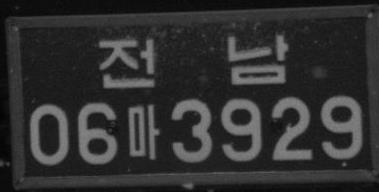0: (28, 102, 69, 166)
2: (270, 95, 314, 162)
3: (170, 97, 214, 163)
6: (76, 101, 119, 164)
9: (319, 94, 364, 160), (220, 97, 263, 162)
마: (125, 103, 160, 161)
전남_D: (97, 33, 290, 90)
